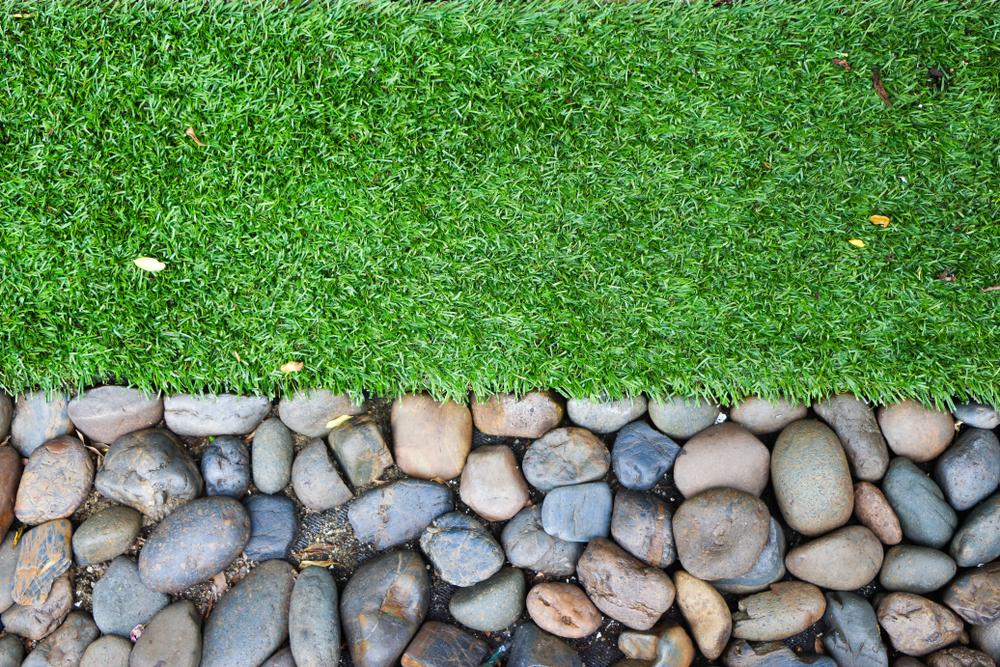grass: (3, 6, 999, 380)
rock: (2, 387, 997, 663)
